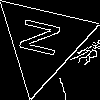N: (18, 16, 70, 61)
